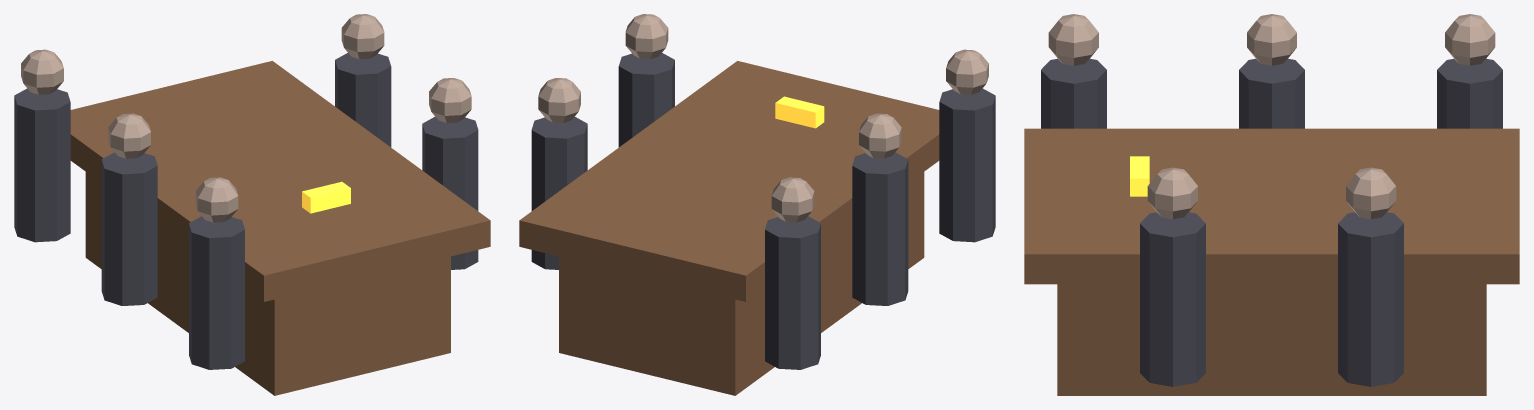
File: the_board.glb
3 renders of one model, left to right at view 1: azimuth 30°, elevation 25°; view 2: azimuth 150°, elevation 25°; view 3: azimuth 270°, elevation 25°, orthographic. The views are drawn at different scales.
Parts seen in each view (by area): view 1: BodyMesh, Gavel; view 2: BodyMesh, Gavel; view 3: BodyMesh, Gavel.
Part boxes in pixels (<box>): BodyMesh: <box>14,14,490,395</box>; Gavel: <box>302,181,350,213</box>; BodyMesh: <box>519,14,995,395</box>; Gavel: <box>775,96,824,128</box>; BodyMesh: <box>1024,14,1519,395</box>; Gavel: <box>1130,156,1149,196</box>.
Bounding box in the file's own units: 1.3 × 0.85 × 1.5.
